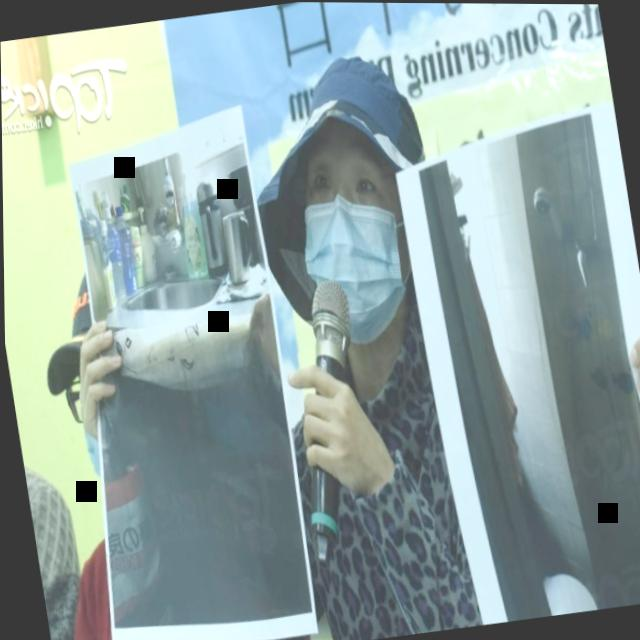Mask: (246, 36, 452, 377)
